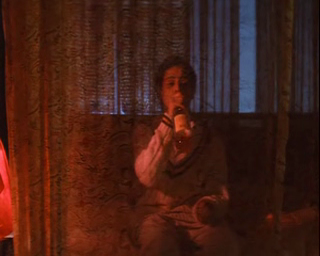face: (162, 71, 192, 110)
ms: (1, 1, 320, 256)
person: (134, 55, 233, 255)
